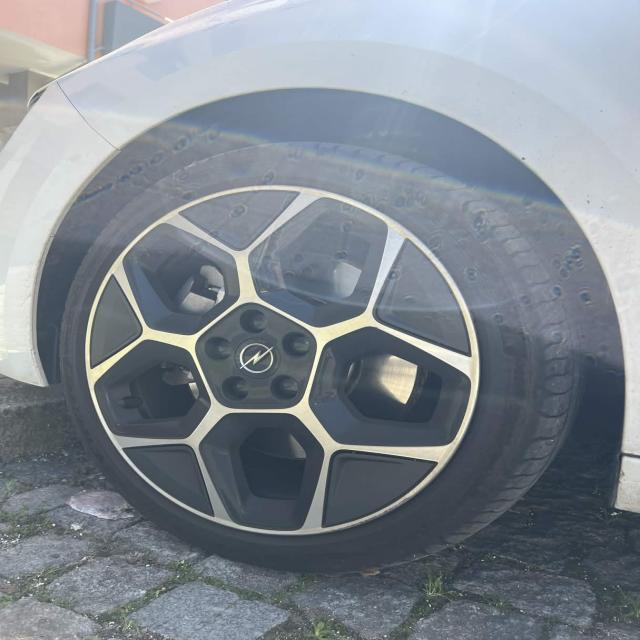jante: (88, 186, 480, 536)
parafuso: (278, 331, 315, 360), (225, 374, 251, 400), (210, 336, 236, 359), (242, 311, 268, 333), (276, 377, 300, 397)
roda: (58, 141, 585, 576)
